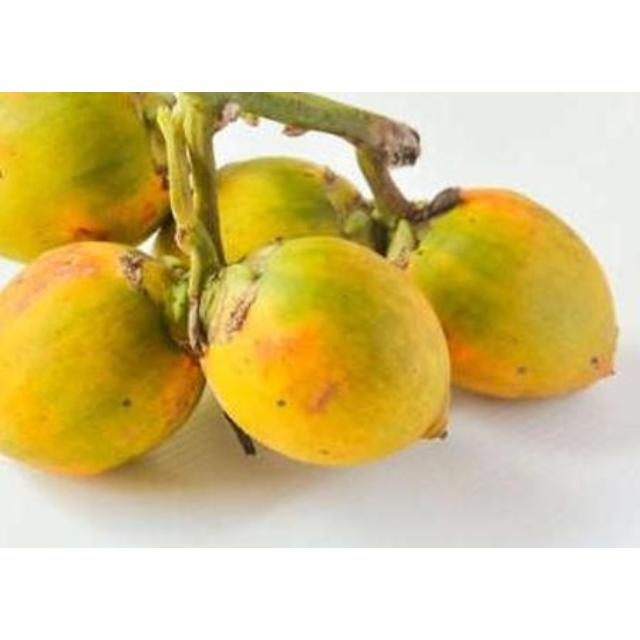good: (202, 233, 450, 463), (0, 241, 204, 474), (404, 188, 618, 400), (2, 94, 175, 260), (212, 162, 372, 268), (163, 274, 199, 354)
